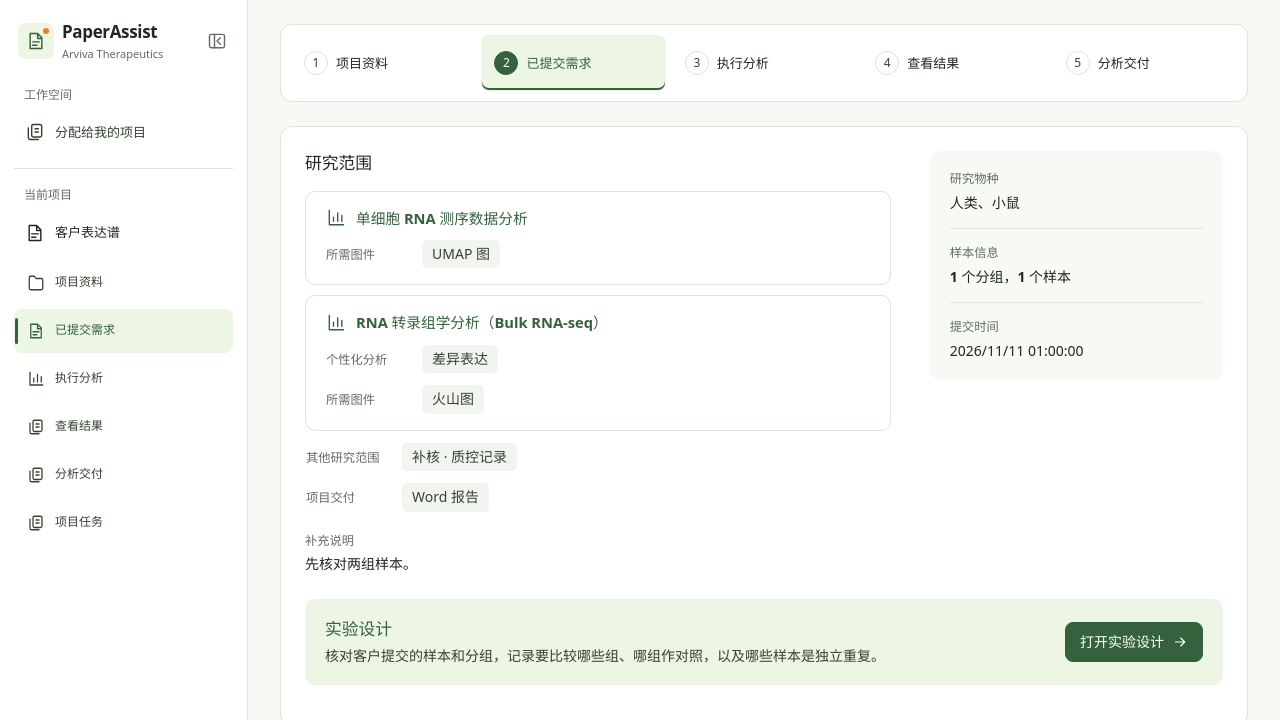
Scenario: opens experimental design from the submitted requirements body and returns to the same project
What coordinates should you click on to do the following:
click the button "打开实验设计"
I would click on:
 (1134, 642)
Its box is x1=1065 y1=622 x2=1203 y2=662.
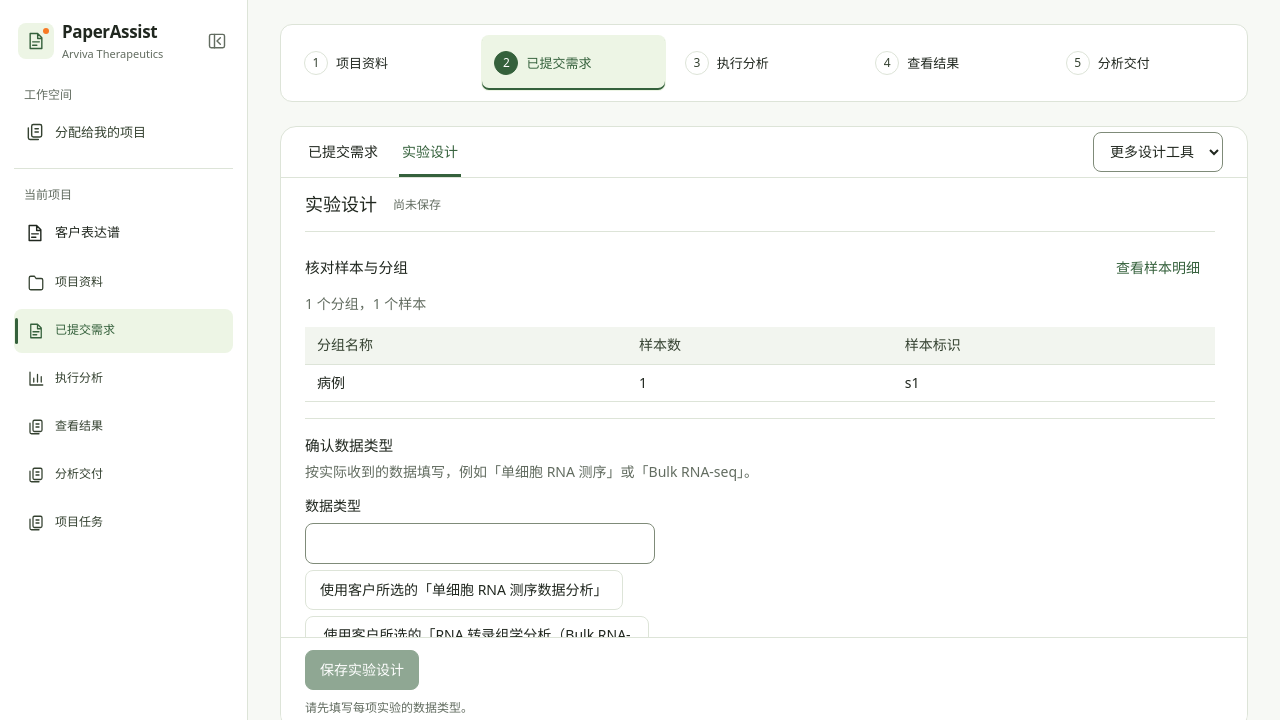
Expected: the heading "核对样本与分组" is shown, x1=305 y1=258 x2=408 y2=278
What coordinates should you click on to do the following:
click the 1st button "已提交需求"
I would click on:
 (343, 152)
Its box is x1=305 y1=127 x2=381 y2=177.
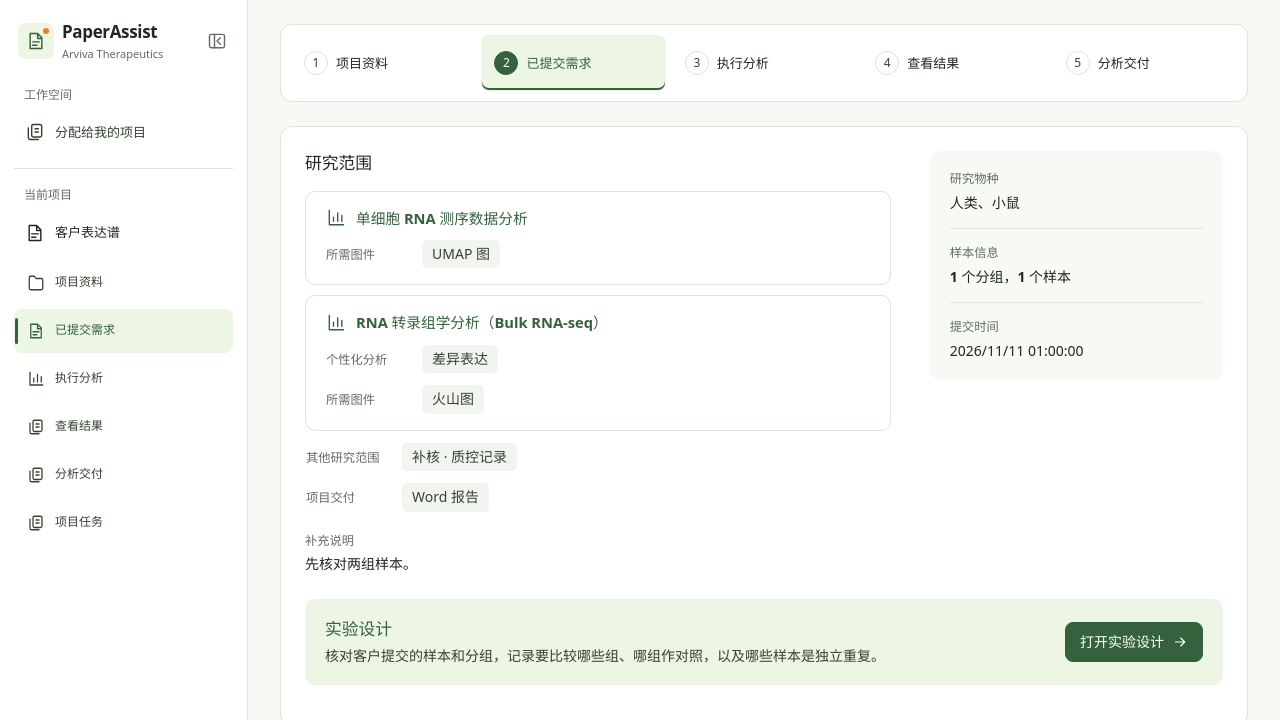
Expected: the list item "火山图" is shown, x1=422 y1=386 x2=484 y2=414
